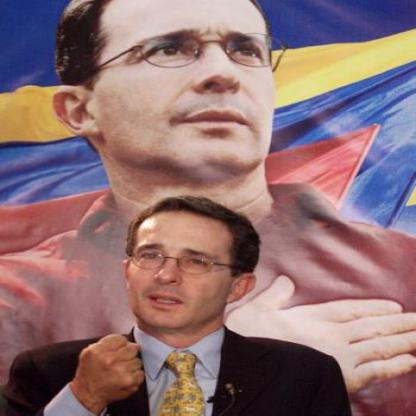face: (82, 1, 292, 182), (126, 202, 241, 331)
